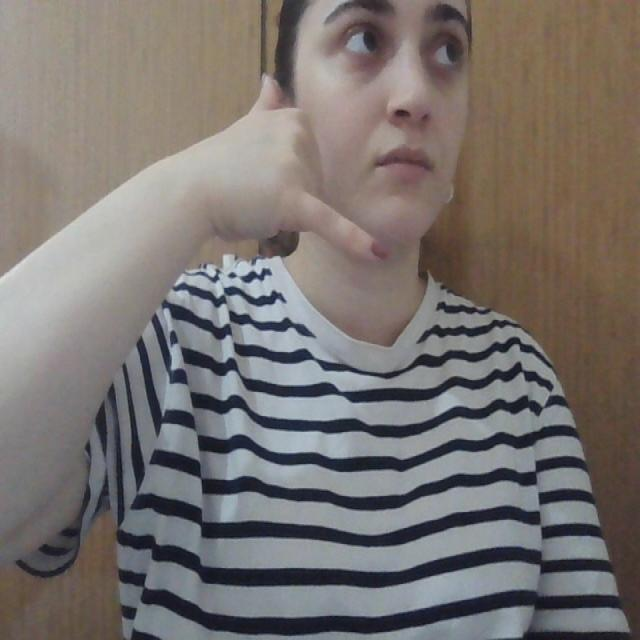Telefon: (233, 55, 376, 298)
